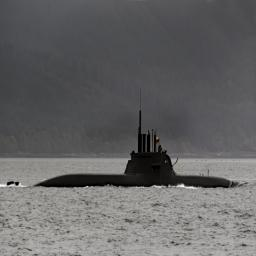submarine: (6, 98, 244, 190)
